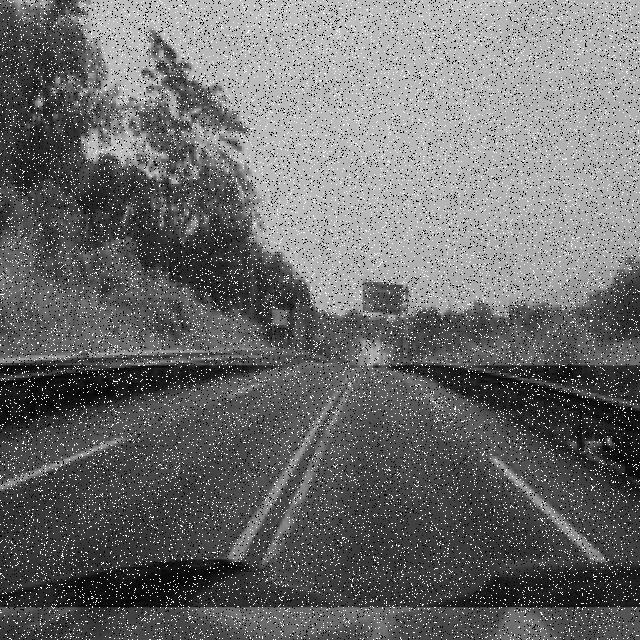clear-road: (0, 366, 640, 594)
